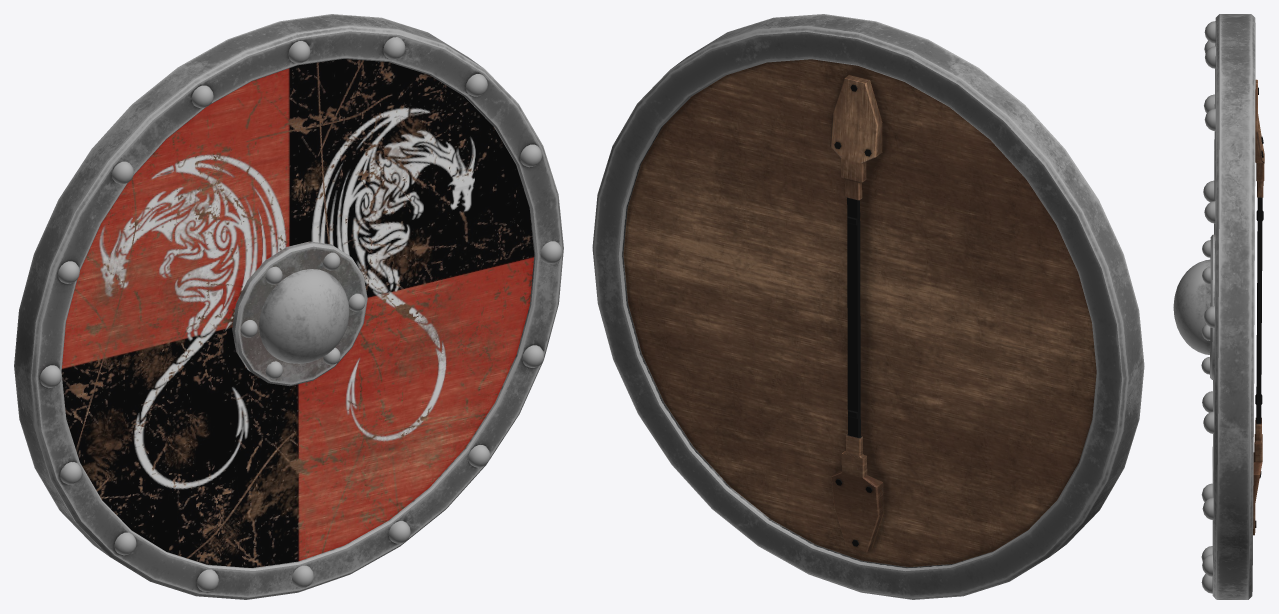
The picture shows the model from 3 angles, left to right: view 1: azimuth 30°, elevation 25°; view 2: azimuth 150°, elevation 25°; view 3: azimuth 270°, elevation 25°; orthographic projection. The views are drawn at different scales.
Visible parts, largest first — view 1: Shield_1_Shield_1; view 2: Shield_1_Shield_1; view 3: Shield_1_Shield_1.
Part boxes in pixels (x1,y1,x2,y2): Shield_1_Shield_1: (14,14,563,599); Shield_1_Shield_1: (592,14,1144,599); Shield_1_Shield_1: (1173,14,1264,599).
Size of the model in its own units: 2 by 2 by 0.3104.
Materials: 1 (1 with a texture image).
